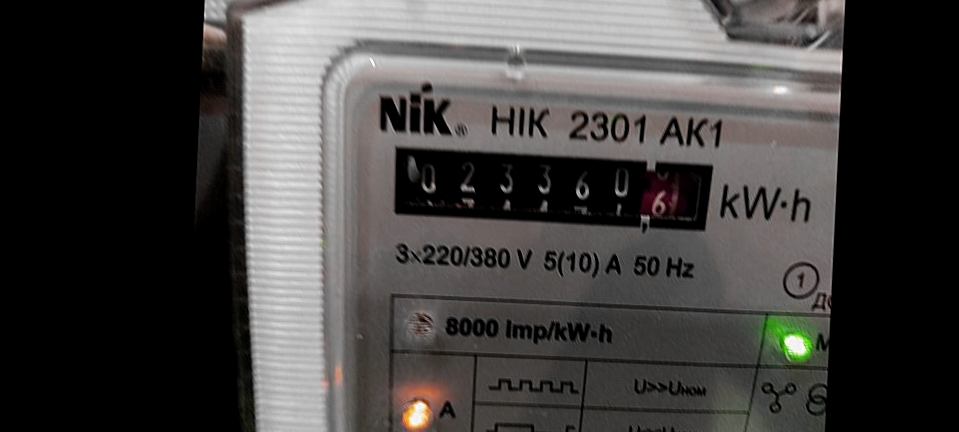0: (416, 157, 439, 193), (609, 163, 632, 199)
2: (456, 157, 478, 193)
3: (495, 159, 516, 195), (534, 160, 553, 195)
6: (570, 165, 592, 200), (648, 183, 667, 217)
screen: (377, 133, 732, 248)
